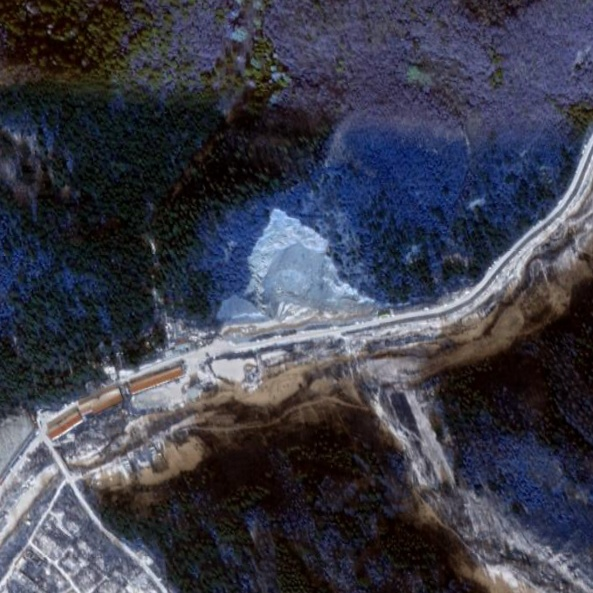slope: (344, 324, 591, 592), (98, 199, 390, 382)
